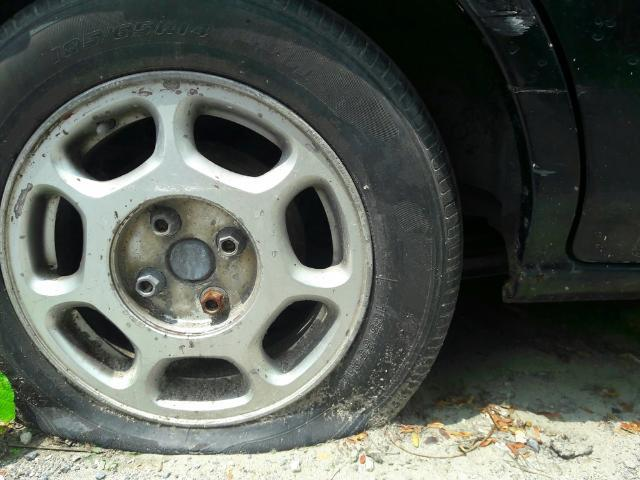tire flat: (0, 0, 465, 455)
